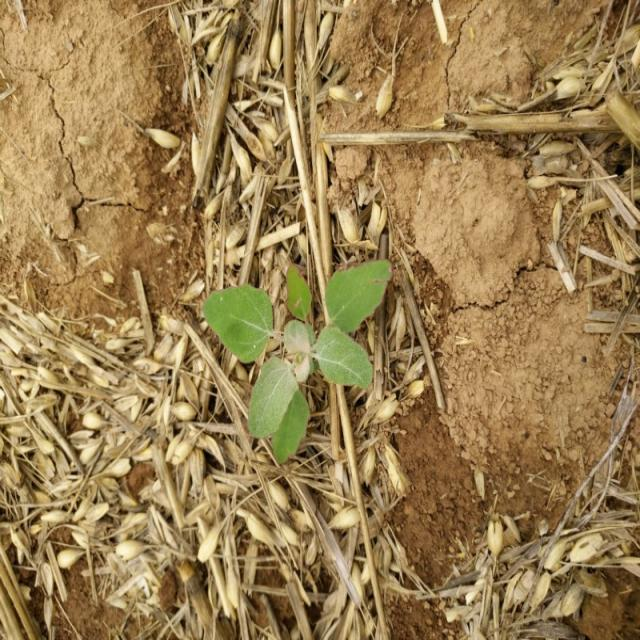ca: (202, 256, 387, 466)
